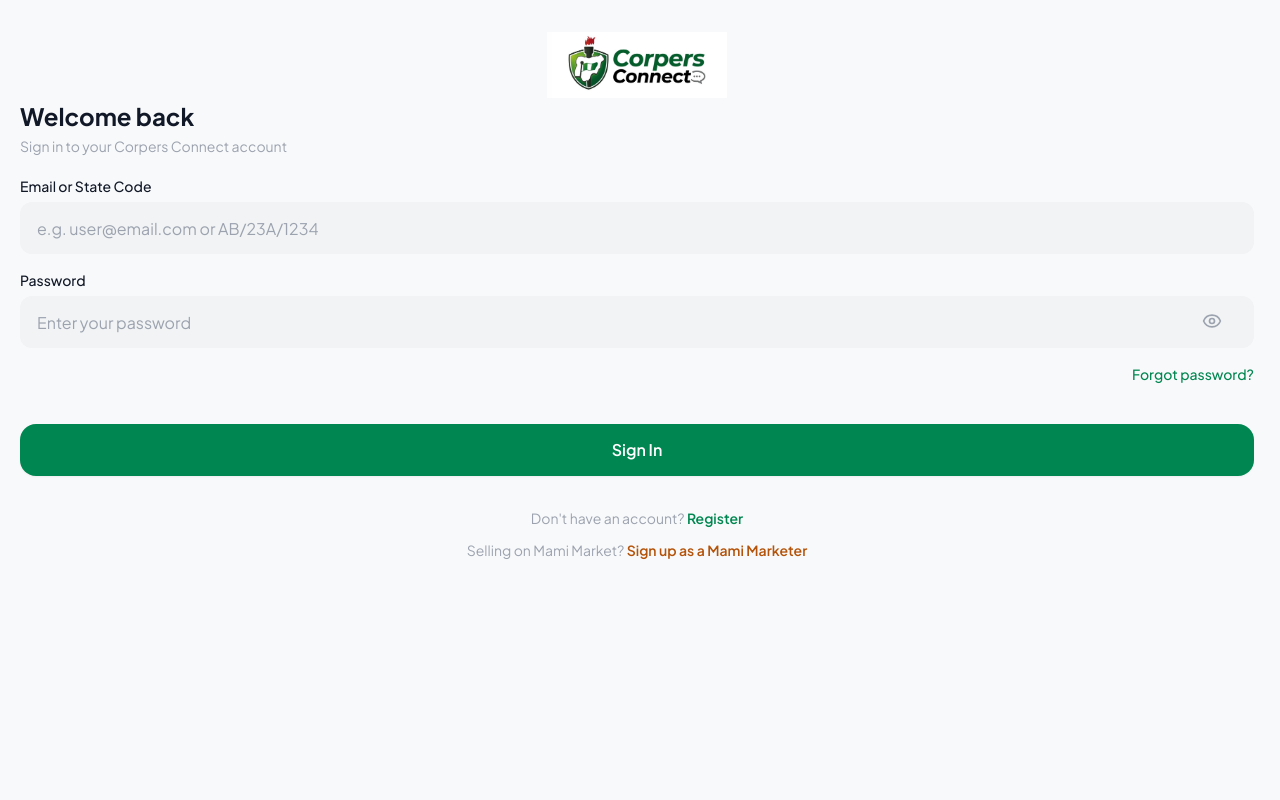
Test: Login Page › shows validation error when form is submitted empty
The image size is (1280, 800).
Click the button "Sign In": (637,450) [20, 424, 1254, 476]
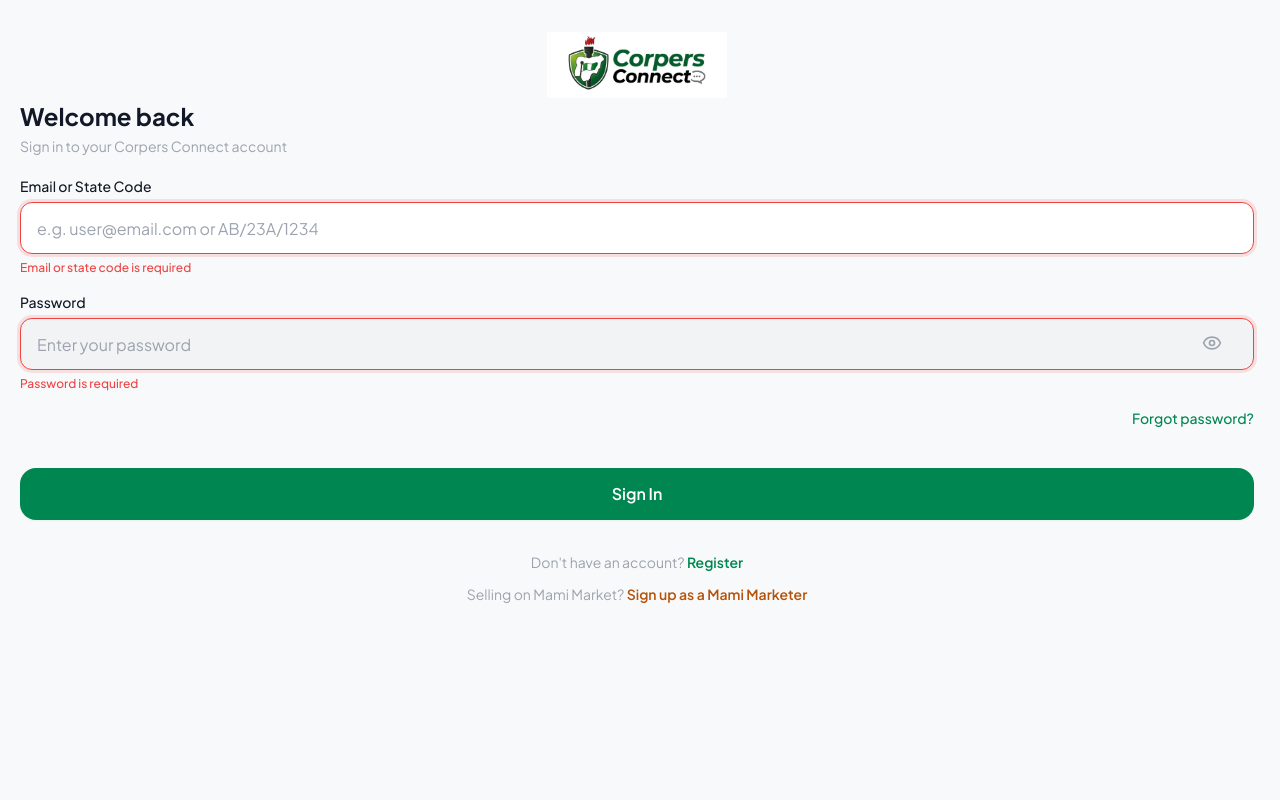
Now the text "Email or state code is required" is shown, box [20, 260, 191, 275]
